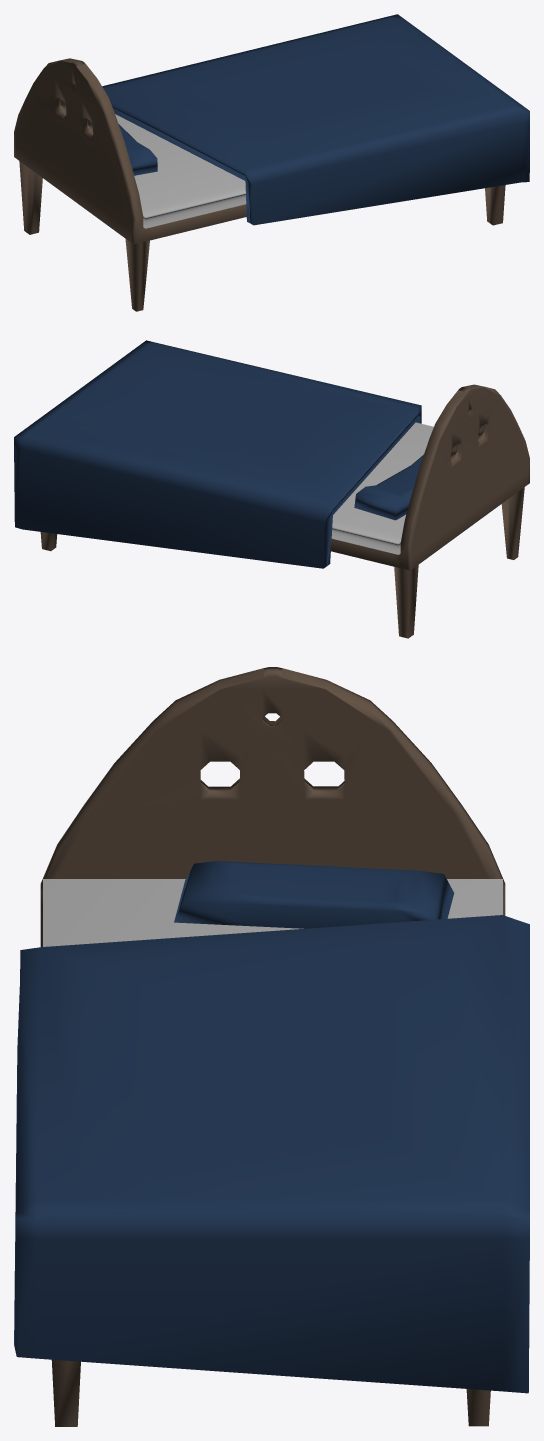
File: bed_untextured.fbx
3 views of the same model, one above another, from view 1: azimuth 30°, elevation 25°; view 2: azimuth 150°, elevation 25°; view 3: azimuth 270°, elevation 25° (orthographic). The views are drawn at different scales.
Parts seen in each view (by area): view 1: Bed_cover, Bed_Frame, Matress, Pillow; view 2: Bed_cover, Bed_Frame, Matress, Pillow; view 3: Bed_cover, Bed_Frame, Pillow, Matress.
Boxes of the visible parts, bbox=[...] form: Bed_cover: bbox=[102, 14, 529, 225]; Bed_Frame: bbox=[14, 58, 505, 311]; Matress: bbox=[115, 114, 246, 228]; Pillow: bbox=[118, 124, 157, 175]; Bed_cover: bbox=[14, 340, 421, 568]; Bed_Frame: bbox=[40, 384, 529, 638]; Matress: bbox=[331, 422, 433, 554]; Pillow: bbox=[354, 454, 423, 520]; Bed_cover: bbox=[14, 915, 529, 1393]; Bed_Frame: bbox=[40, 667, 505, 1426]; Pillow: bbox=[174, 861, 454, 928]; Matress: bbox=[43, 879, 502, 946].
Bounding box in the file's own units: 2865 × 1462 × 1684.
